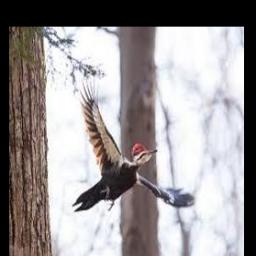Woodpecker: (72, 77, 195, 211)
